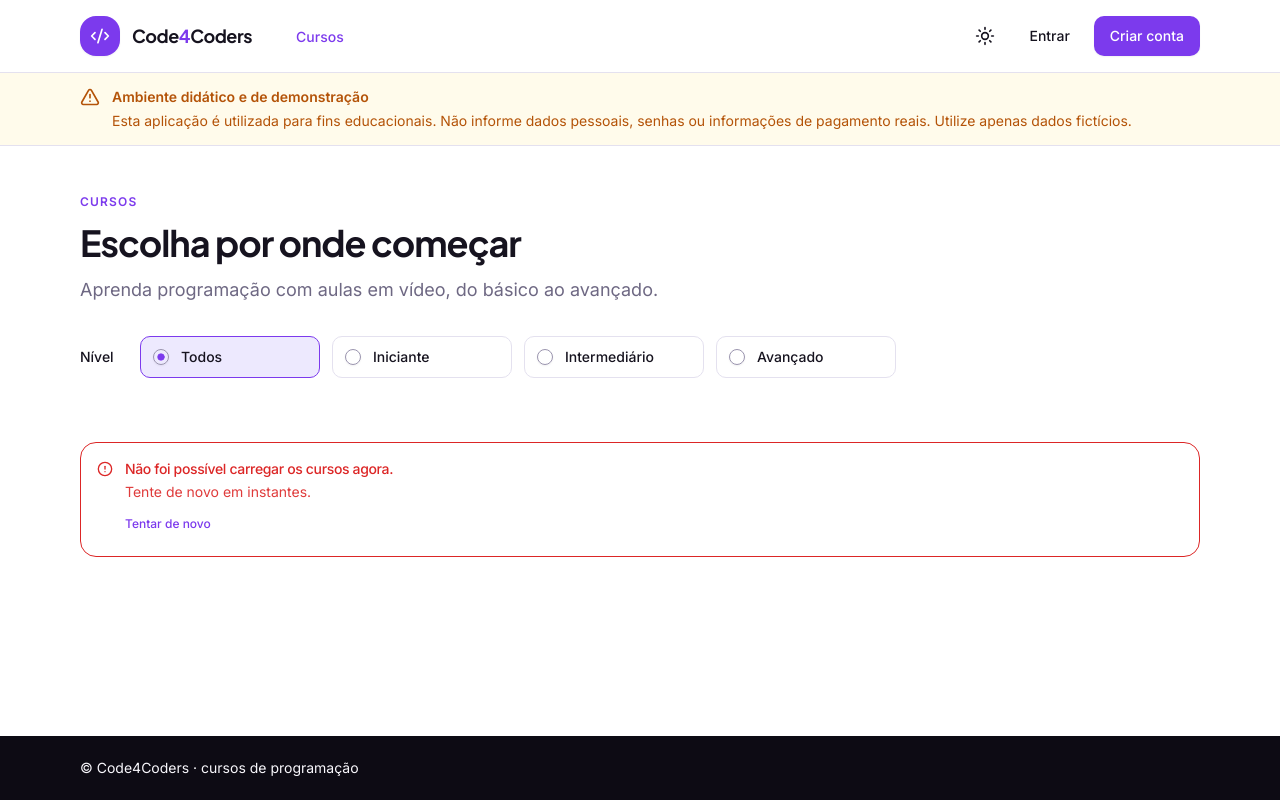
Test: student showcase flow › explains a failure from the BFF and loads again on retry
The image size is (1280, 800).
Check: the 2nd message shows "Não foi possível carregar os cursos agora.", box x1=125 y1=460 x2=393 y2=477
Click the button "Tentar de novo". click: (168,524)
box: x1=125 y1=508 x2=211 y2=540
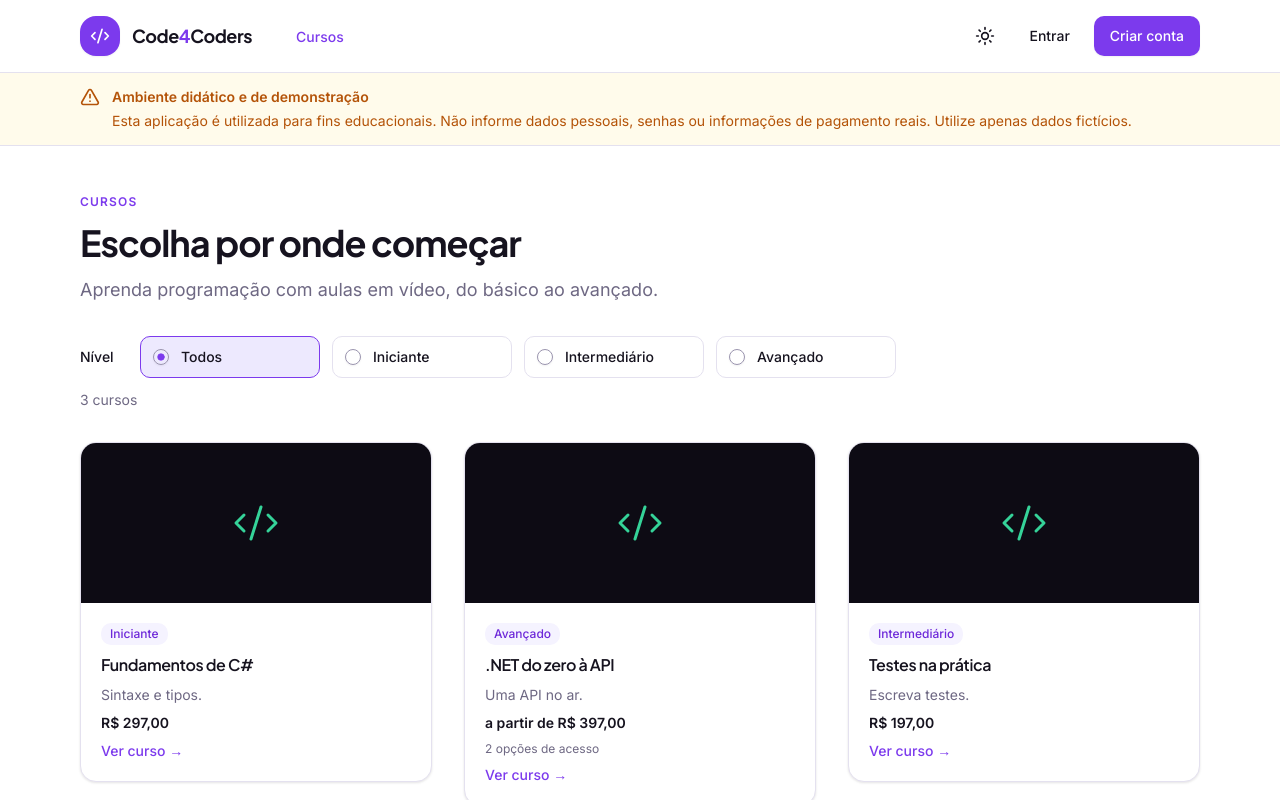
Check: the link "Fundamentos de C#" is shown, box x1=101 y1=654 x2=254 y2=675
